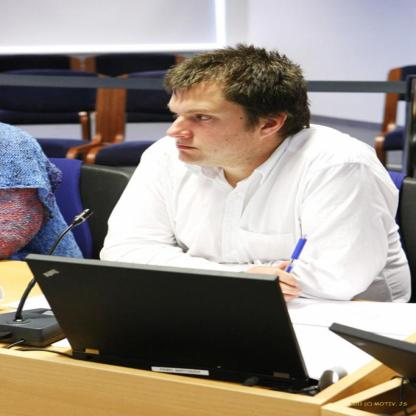board: (31, 252, 305, 384)
